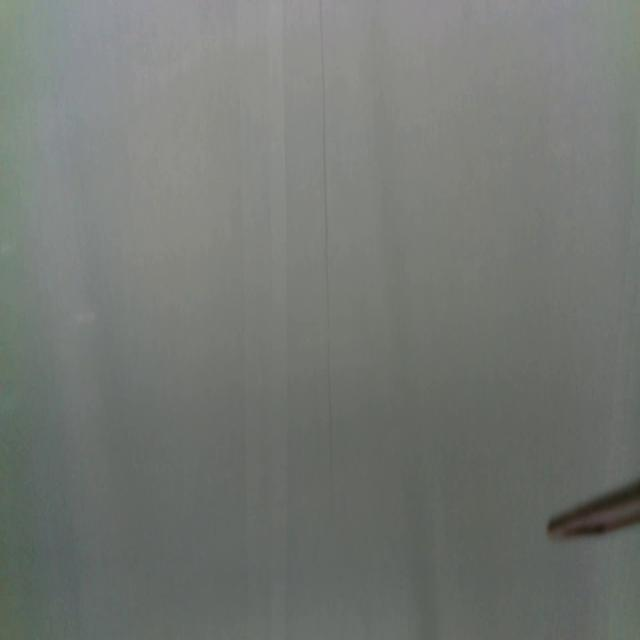crease: (233, 0, 288, 637), (316, 0, 337, 640)
